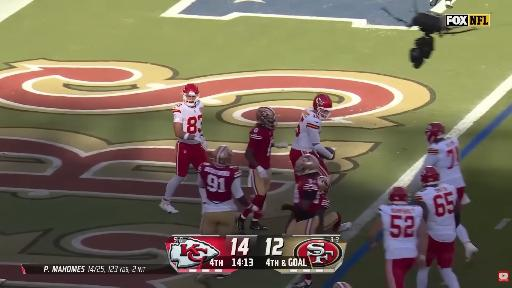Helmet: (295, 155, 319, 175), (313, 94, 332, 119), (256, 107, 276, 129), (425, 123, 445, 143), (214, 146, 233, 166), (183, 84, 199, 107), (389, 186, 408, 204), (421, 167, 439, 186), (318, 176, 331, 195), (334, 282, 351, 287)
Jersey: (415, 184, 457, 242), (379, 205, 423, 259), (198, 163, 243, 211), (423, 138, 465, 187), (292, 108, 321, 151), (295, 175, 320, 221), (248, 125, 273, 169), (172, 101, 203, 134), (319, 196, 330, 208)
Player: (160, 84, 207, 213), (369, 187, 427, 287), (415, 167, 460, 287), (198, 146, 258, 235), (245, 107, 287, 230), (412, 123, 470, 204), (286, 155, 342, 235), (290, 94, 334, 177), (312, 176, 330, 214), (333, 282, 351, 287), (430, 0, 441, 6), (0, 279, 6, 283)
